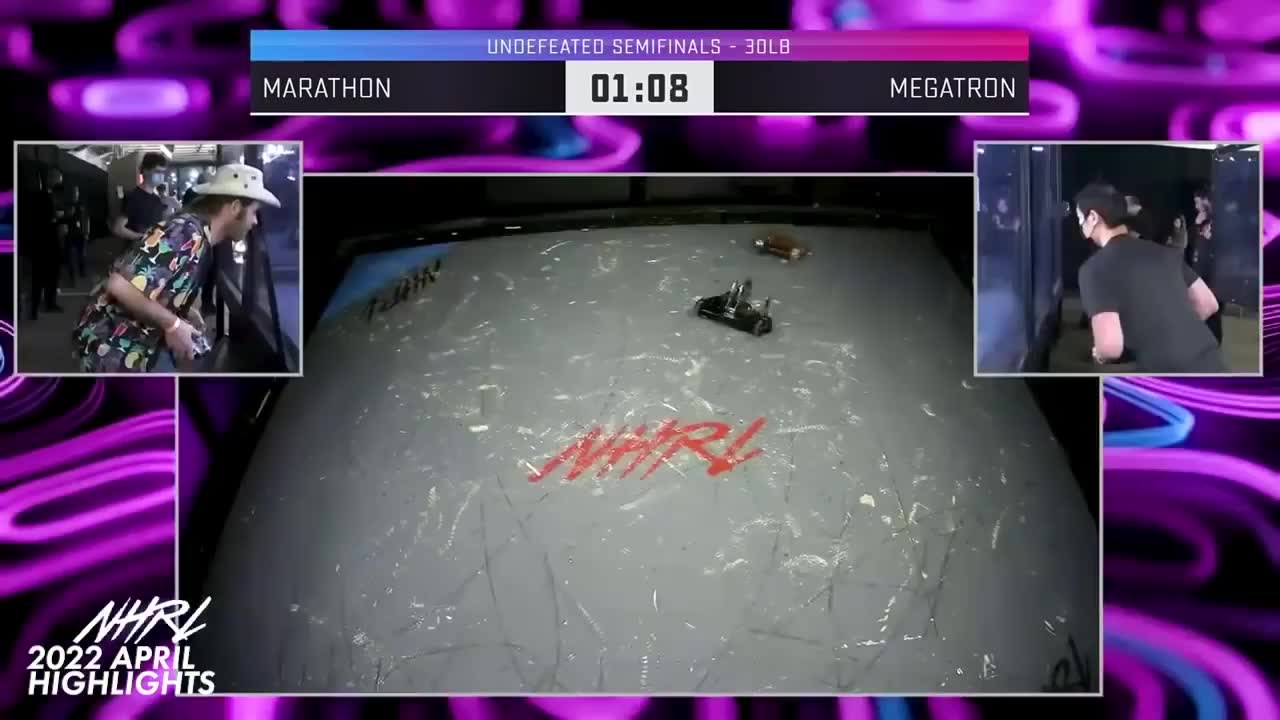combatbot: (692, 280, 777, 338)
minibot: (752, 229, 812, 266)
